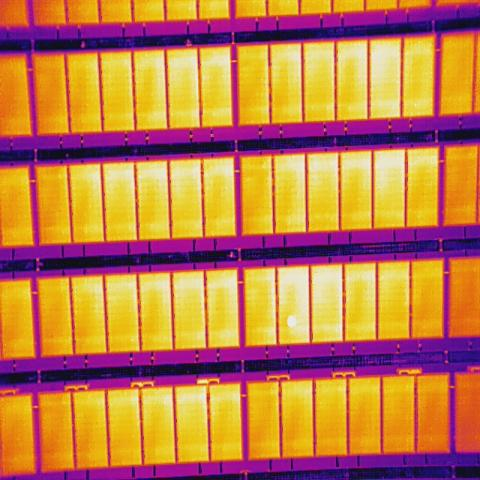fault: (287, 313, 297, 329)
